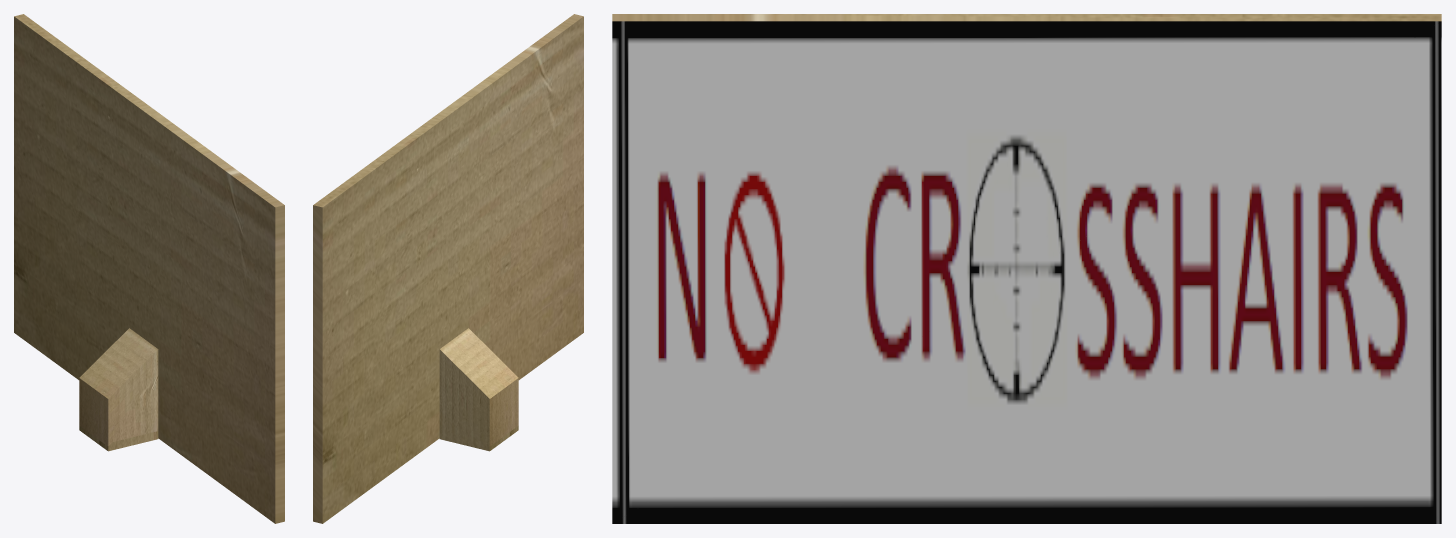
The model's file is NoCrosshairs.fbx.
3 renders of one model, left to right at view 1: azimuth 30°, elevation 25°; view 2: azimuth 150°, elevation 25°; view 3: azimuth 270°, elevation 25°, orthographic. The views are drawn at different scales.
Parts seen in each view (by area): view 1: polySurface1; view 2: polySurface1; view 3: polySurface1.
Boxes of the visible parts, box(x1,y1,x2,y2) form: polySurface1: box(14, 14, 284, 523); polySurface1: box(313, 14, 583, 523); polySurface1: box(612, 14, 1441, 523).
Bounding box in the file's own units: 0.8432 × 4.21 × 6.3.
